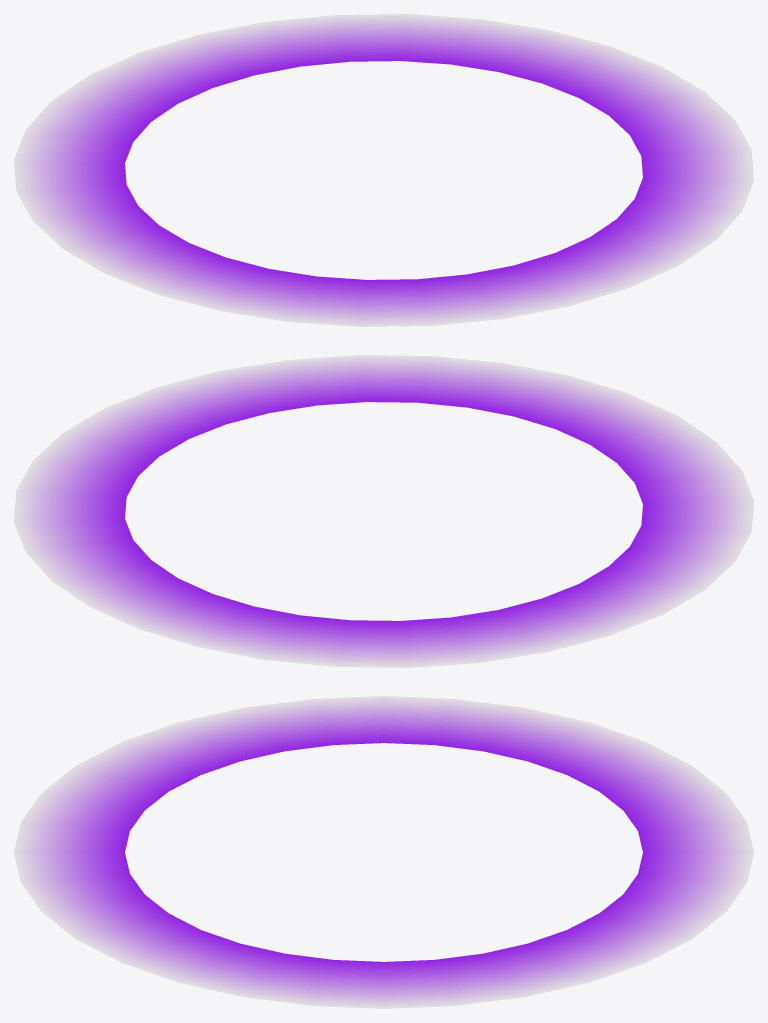
The model's file is vfx_shockwave.fbx.
3 renders of one model, top to bottom at view 1: azimuth 30°, elevation 25°; view 2: azimuth 150°, elevation 25°; view 3: azimuth 270°, elevation 25°, orthographic.
Visible parts, largest first — view 1: Vfx_Shockwave; view 2: Vfx_Shockwave; view 3: Vfx_Shockwave.
Part boxes in pixels (x1,y1,x2,y2): Vfx_Shockwave: (14, 14, 753, 326); Vfx_Shockwave: (14, 355, 753, 667); Vfx_Shockwave: (14, 696, 753, 1008).
Size of the model in its own units: 4 by 3.9e-07 by 4.
1 material, 1 textured.
